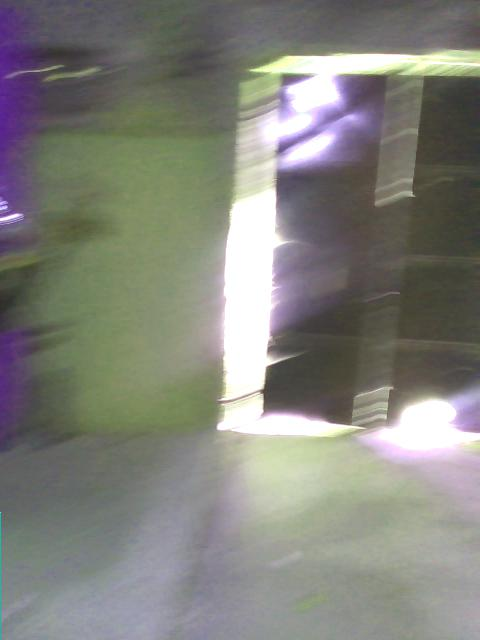closed_door: (211, 49, 479, 428)
